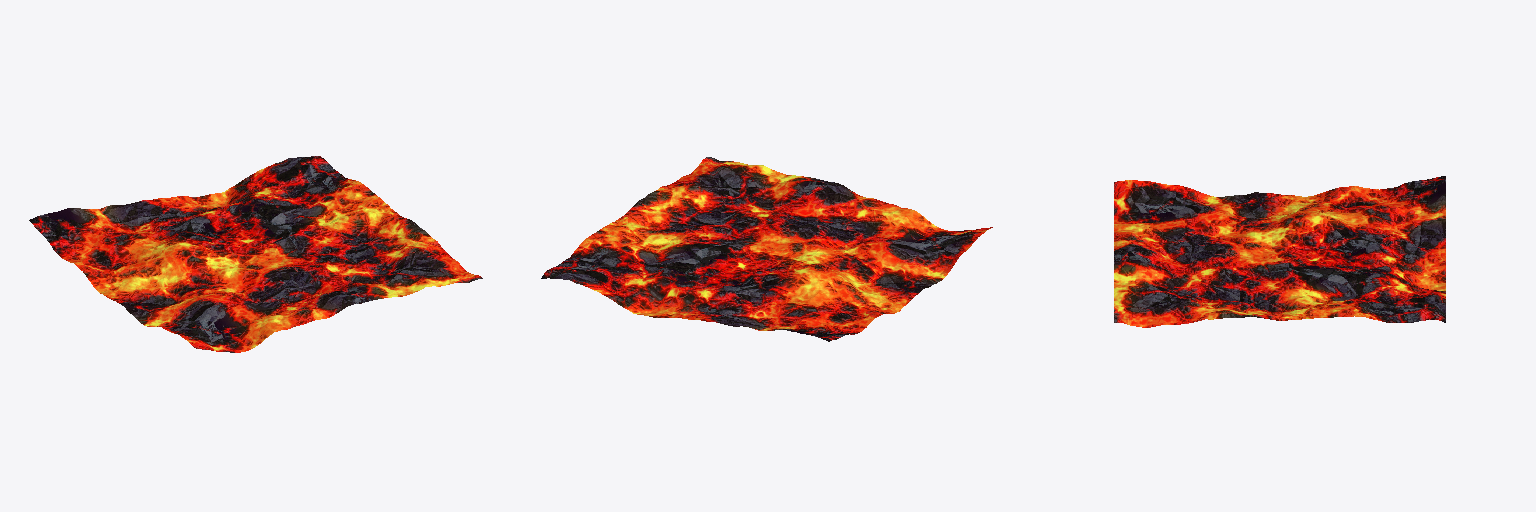
The picture shows the model from 3 angles: view 1: azimuth 30°, elevation 25°; view 2: azimuth 150°, elevation 25°; view 3: azimuth 270°, elevation 25°; orthographic projection.
Parts seen in each view (by area): view 1: Water; view 2: Water; view 3: Water.
Part boxes in pixels (bbox=[...]): Water: bbox=[29, 156, 482, 352]; Water: bbox=[541, 157, 992, 341]; Water: bbox=[1114, 176, 1445, 327].
Size of the model in its own units: 200 by 17.21 by 200.
1 materials, 1 textured.